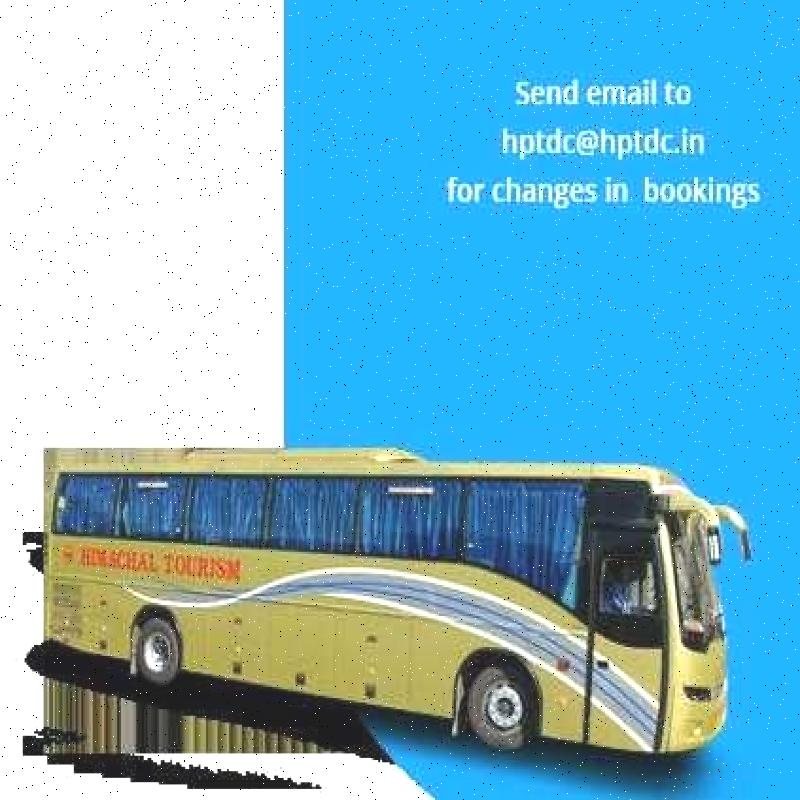bus: (40, 434, 741, 762)
